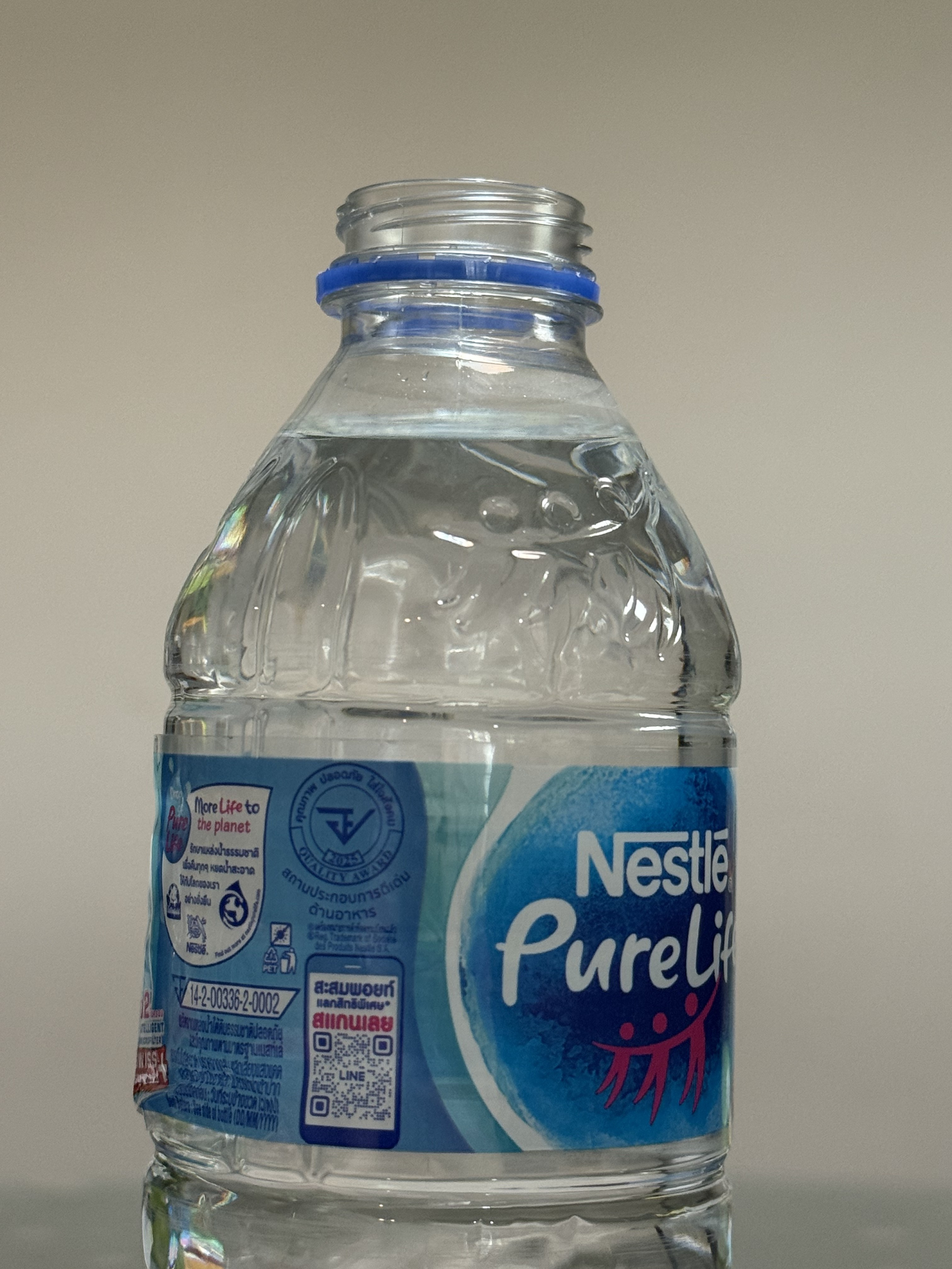no_cap: (316, 172, 602, 306)
